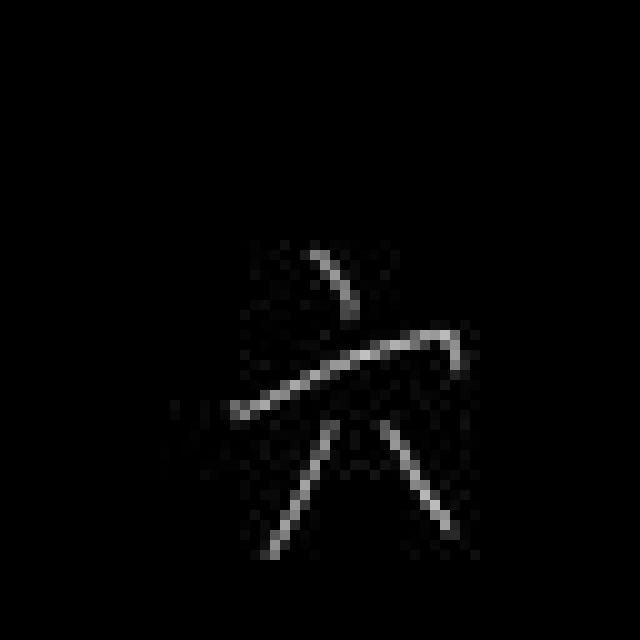6 -six-: (215, 235, 470, 566)
